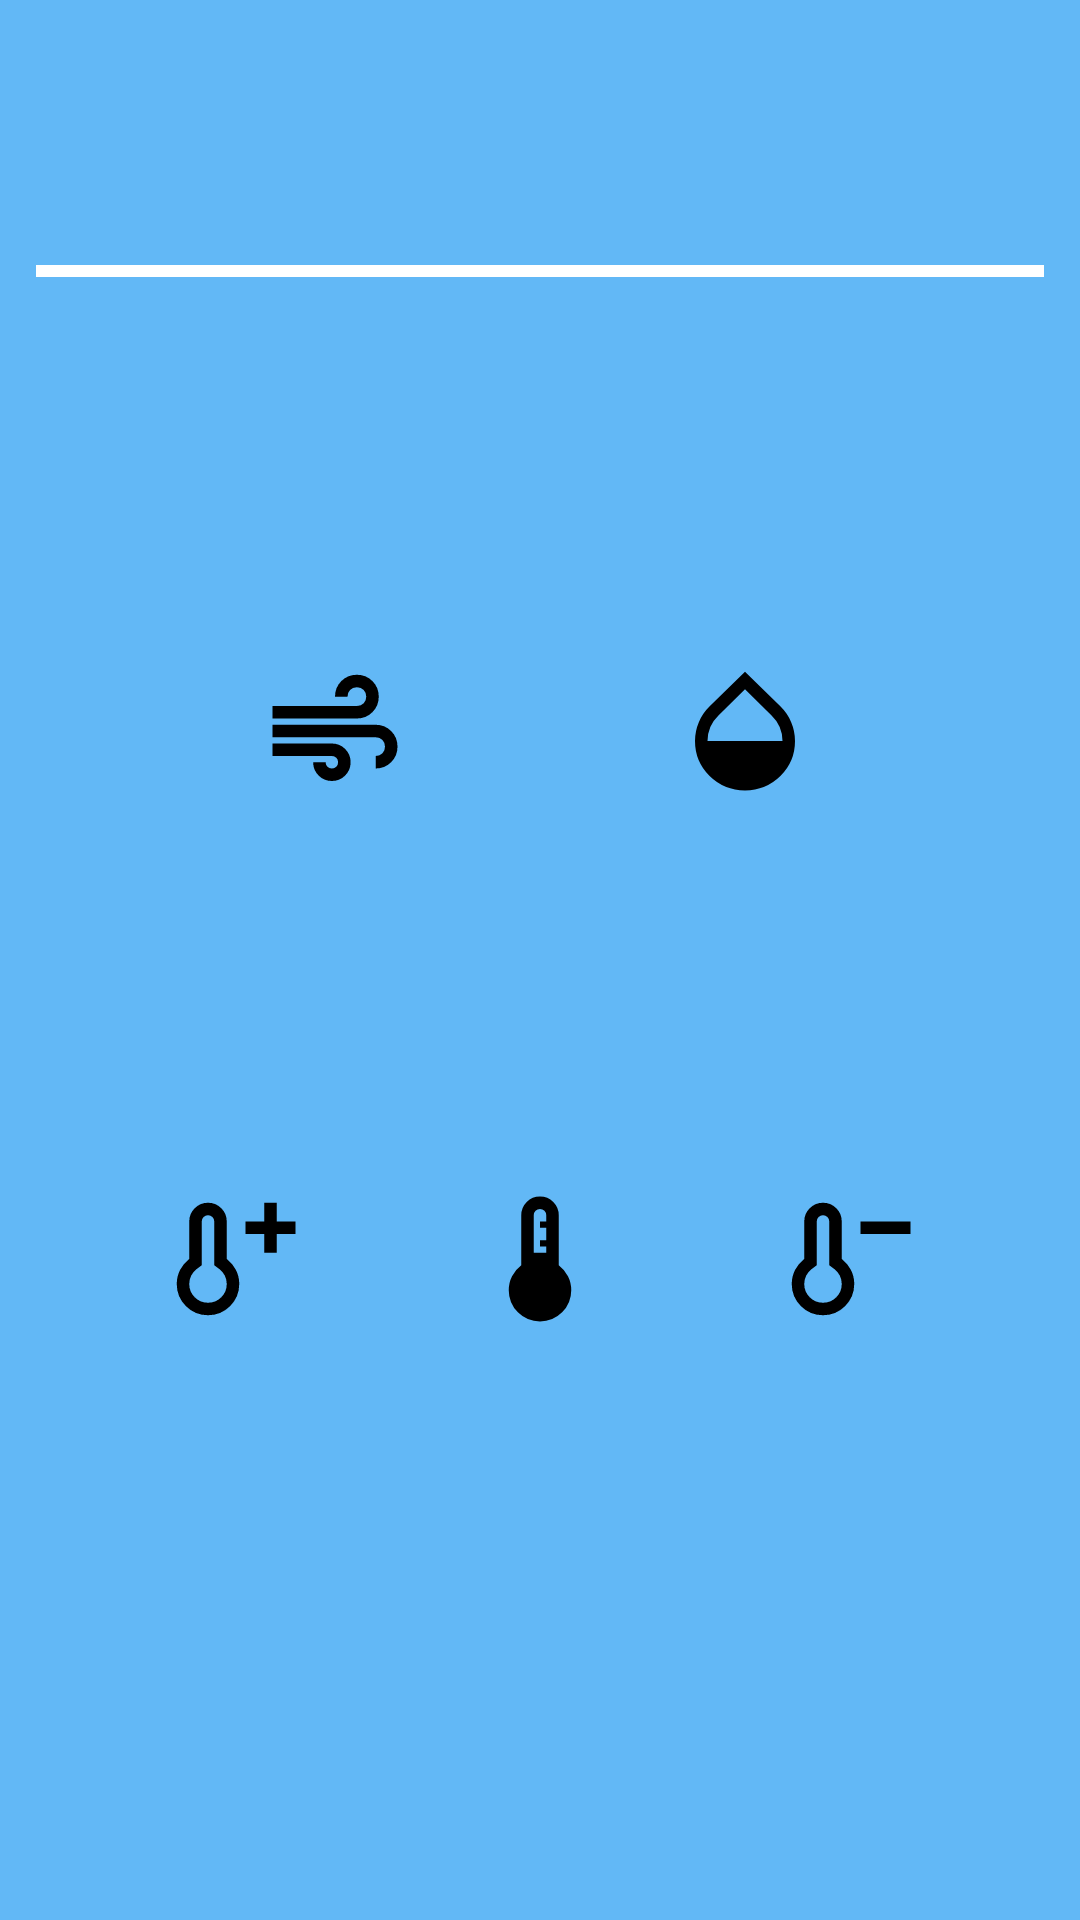

Named icons in this screenshot (1080×1920) and their bounding boxes, rect(x1, y1, x2, y2):
avg temperature: rect(508, 1196, 572, 1322)
humidity percentage: rect(695, 672, 795, 791)
max temperature: rect(176, 1202, 296, 1316)
thermometer loss: rect(791, 1202, 911, 1316)
wind speed: rect(272, 674, 398, 781)
